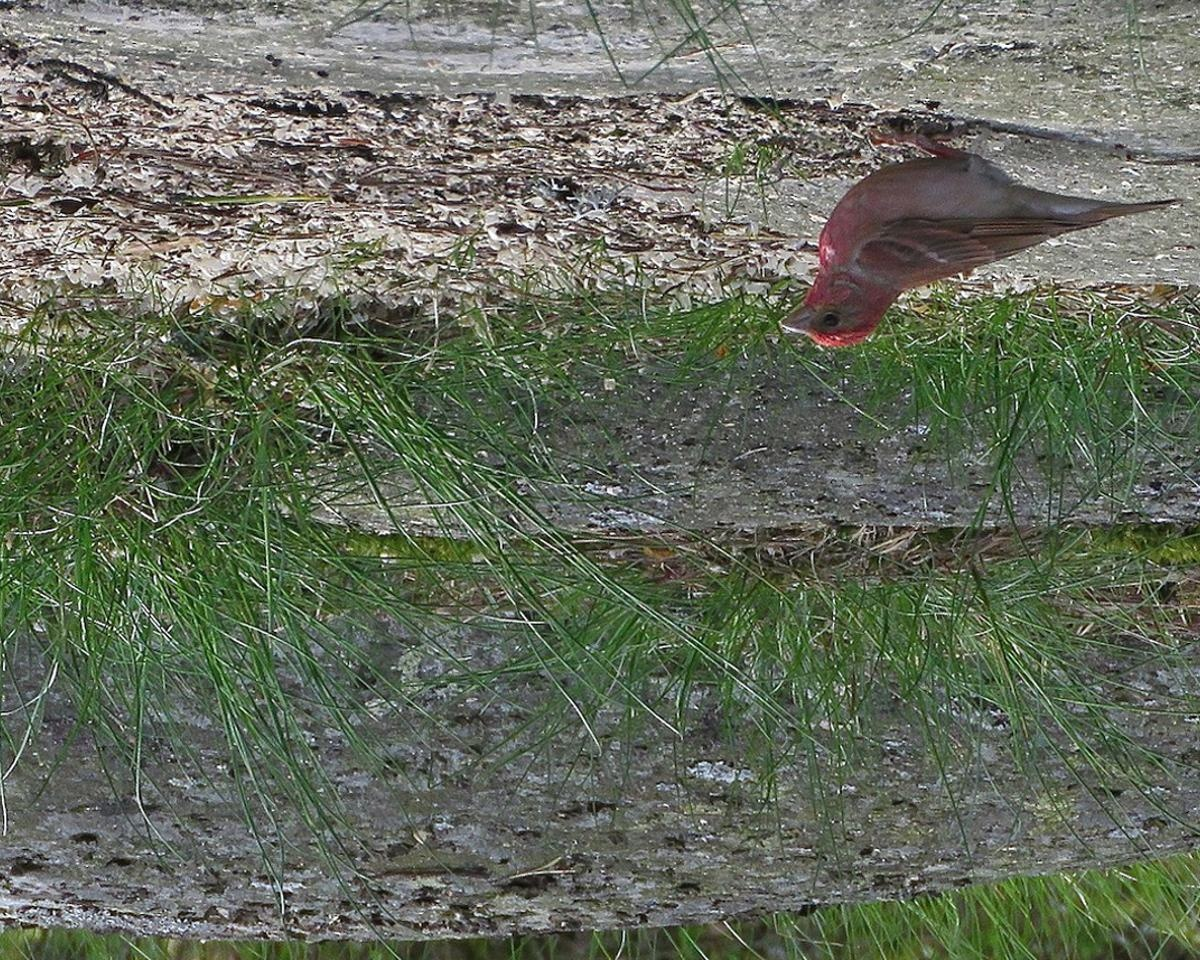rosefinch: (777, 122, 1131, 361)
